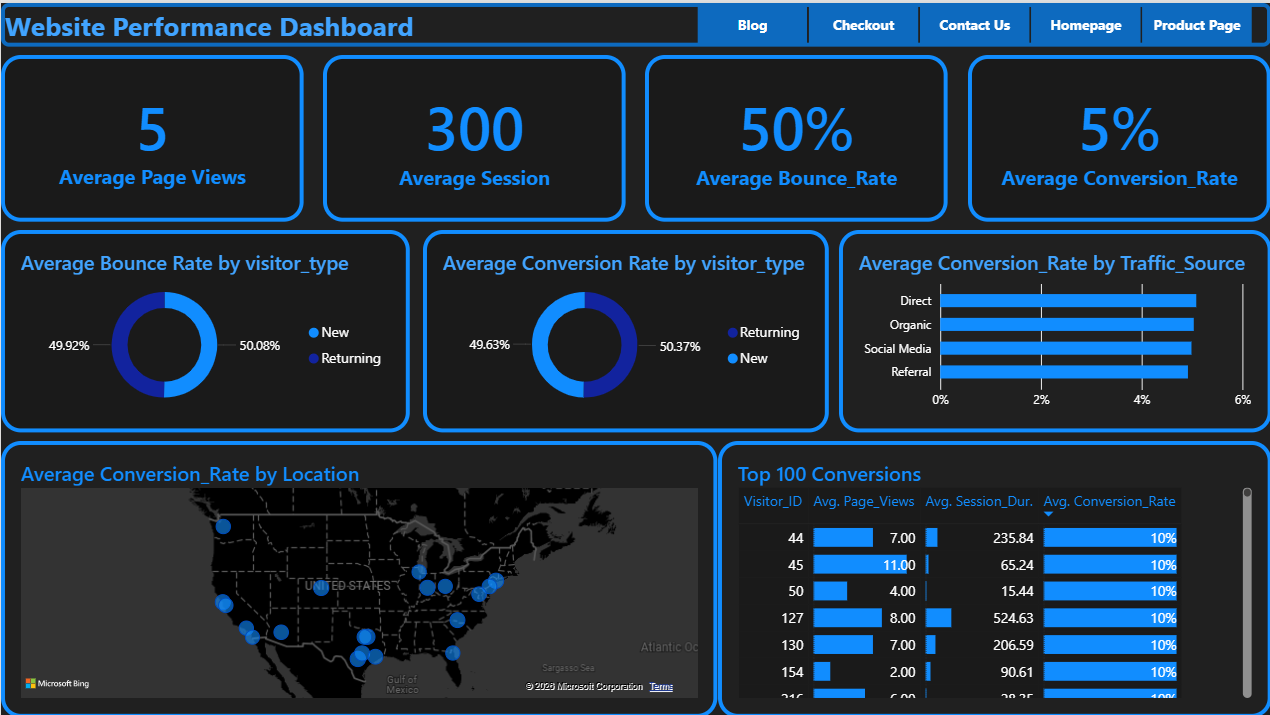

The page's visual inventory and layout, read from the dashboard file:
{"tool":"powerbi","page":{"name":"Website Performance Dashboard","canvas":[1280,720],"ordinal":0},"visuals":[{"type":"textbox","box":[0,0,1280,43.9],"z":0},{"type":"slicer","fields":{"Values":["website_performance_analytics.Exit_Pages"]},"box":[681.8,0,598.2,44.1],"z":1000},{"type":"card","fields":{"Values":["Avg(website_performance_analytics.Page_Views)"]},"box":[0,52.3,305,168],"z":2000},{"type":"card","fields":{"Values":["Avg(website_performance_analytics.Session_Duration)"]},"box":[324.5,52.3,305.5,168.4],"z":3000},{"type":"card","fields":{"Values":["Avg(website_performance_analytics.Bounce_Rate)"]},"box":[649.5,52.3,305.5,168.4],"z":4000},{"type":"card","fields":{"Values":["Avg(website_performance_analytics.Conversion_Rate)"]},"box":[974.5,52.3,305.5,168.4],"z":5000},{"type":"donutChart","title":"Average Bounce Rate by visitor_type","fields":{"Category":["website_performance_analytics.Visitor_Type"],"Y":["Avg(website_performance_analytics.Bounce_Rate)"]},"box":[0,228.8,412.3,204.4],"z":6000},{"type":"donutChart","title":"Average Conversion Rate by visitor_type","fields":{"Category":["website_performance_analytics.Visitor_Type"],"Y":["Avg(website_performance_analytics.Conversion_Rate)"]},"box":[425.1,228.8,408.9,204.4],"z":7000},{"type":"clusteredBarChart","title":"Average Conversion_Rate by Traffic_Source","fields":{"Category":["website_performance_analytics.Traffic_Source"],"Y":["Avg(website_performance_analytics.Conversion_Rate)"]},"box":[844.4,228.8,435.6,204.4],"z":8000},{"type":"map","title":"Average Conversion_Rate by Location","fields":{"Category":["website_performance_analytics.Location"],"Size":["Sum(website_performance_analytics.Conversion_Rate)"]},"box":[0,441.4,722.5,278.8],"z":9000},{"type":"tableEx","title":"Top 100 Conversions","fields":{"Values":["website_performance_analytics.Visitor_ID","Avg(website_performance_analytics.Page_Views)","Avg(website_performance_analytics.Session_Duration)","Avg(website_performance_analytics.Conversion_Rate)"]},"box":[722.5,441.4,557.5,278.8],"z":9001}]}

Visuals, with their boxes in screenshot pixels (x1, y1, x2, y2), scaled from the page's 1280x720 canvas onto the 1270x715 screenshot:
textbox: box=[0, 0, 1269, 44]
slicer - website_performance_analytics.Exit_Pages: box=[676, 0, 1269, 44]
card - Avg(website_performance_analytics.Page_Views): box=[0, 52, 303, 219]
card - Avg(website_performance_analytics.Session_Duration): box=[322, 52, 625, 219]
card - Avg(website_performance_analytics.Bounce_Rate): box=[644, 52, 948, 219]
card - Avg(website_performance_analytics.Conversion_Rate): box=[967, 52, 1269, 219]
"Average Bounce Rate by visitor_type" donutChart: box=[0, 227, 409, 430]
"Average Conversion Rate by visitor_type" donutChart: box=[422, 227, 827, 430]
"Average Conversion_Rate by Traffic_Source" clusteredBarChart: box=[838, 227, 1269, 430]
"Average Conversion_Rate by Location" map: box=[0, 438, 717, 714]
"Top 100 Conversions" tableEx: box=[717, 438, 1269, 714]
